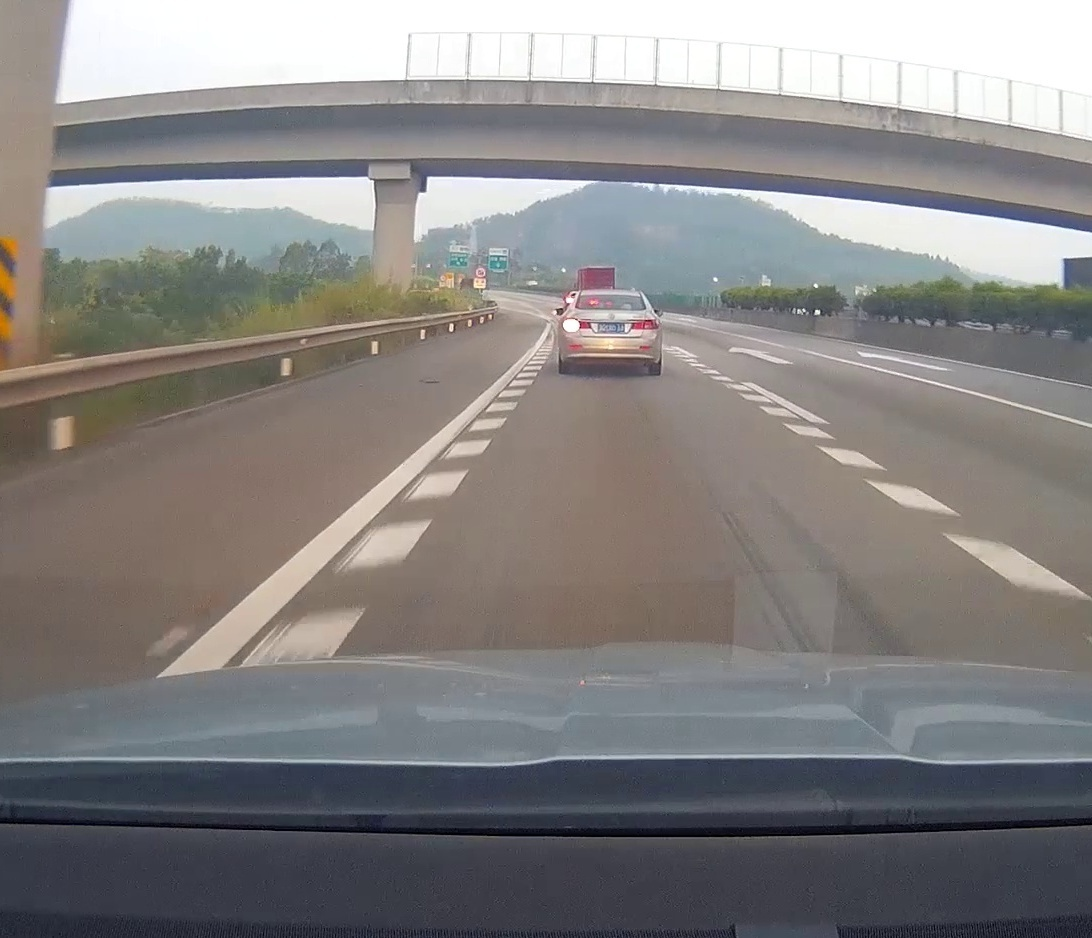L_light: (562, 318, 592, 329)
R_light: (630, 319, 660, 330)
T_light: (603, 308, 621, 310)
day-left: (556, 289, 662, 375)
